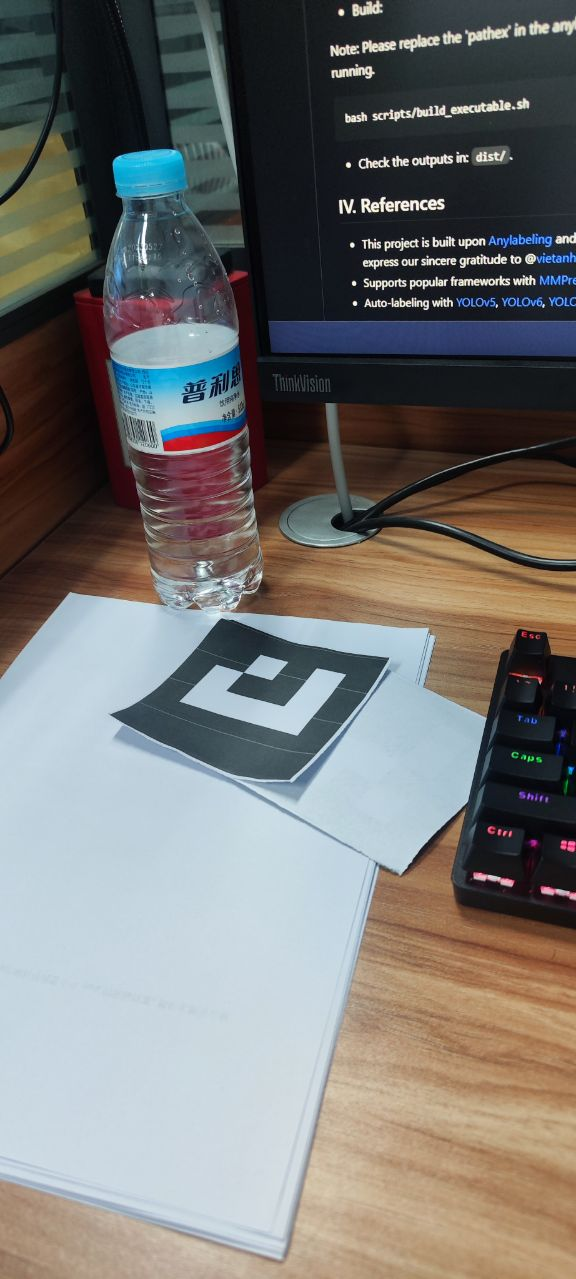mark1: (179, 649, 345, 743)
